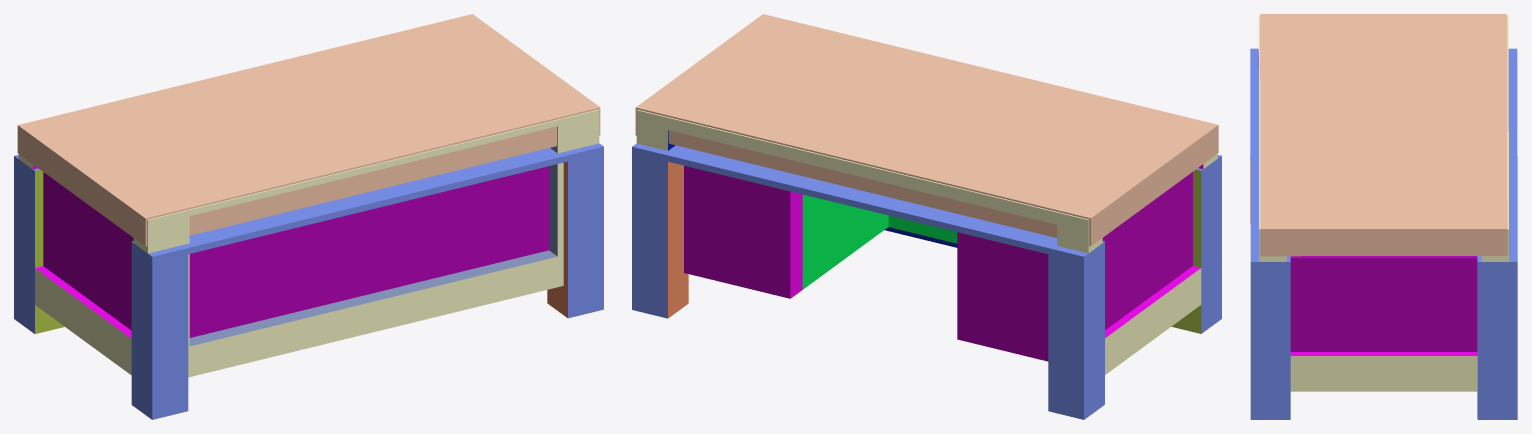
Rendered from 04379243_table_332.glb.
3 renders of one model, left to right at view 1: azimuth 30°, elevation 25°; view 2: azimuth 150°, elevation 25°; view 3: azimuth 270°, elevation 25°, orthographic. The views are drawn at different scales.
Parts seen in each view (by area): view 1: Plane; view 2: Plane; view 3: Plane.
Part boxes in pixels (<box>): Plane: <box>14,14,603,419</box>; Plane: <box>632,14,1221,419</box>; Plane: <box>1250,14,1517,419</box>.
Size of the model in its own units: 1.73 by 0.7202 by 0.91.
